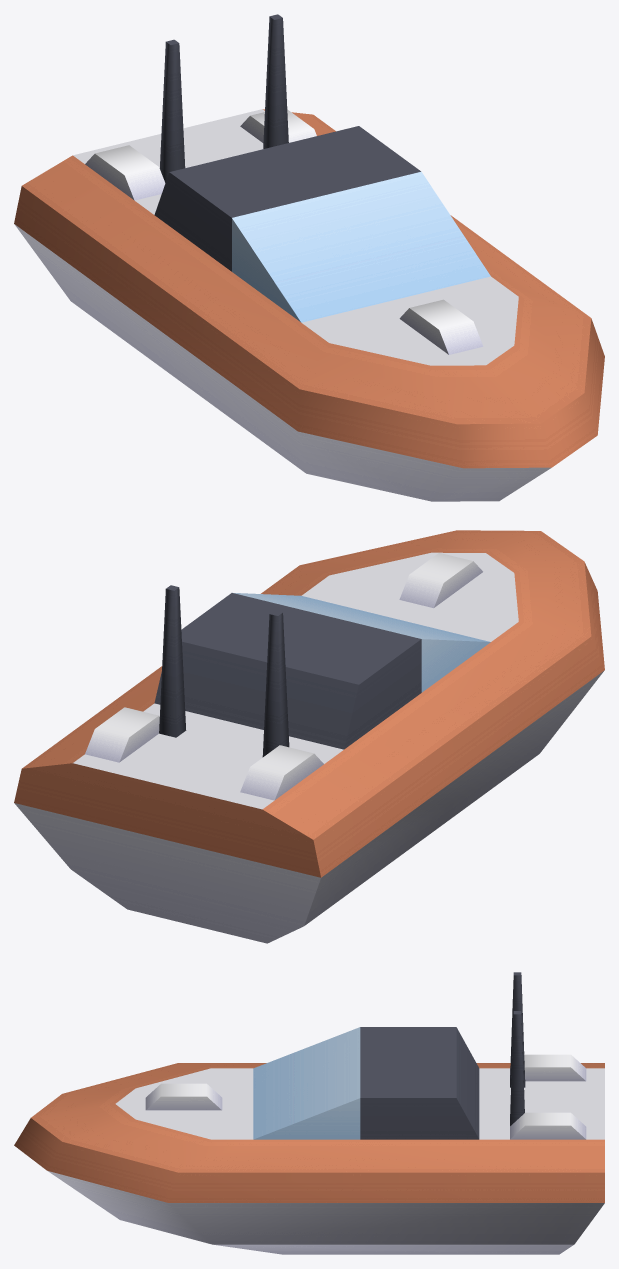
Rendered from boat_speed_i.glb.
3 views of the same model, one above another, from view 1: azimuth 30°, elevation 25°; view 2: azimuth 150°, elevation 25°; view 3: azimuth 270°, elevation 25° (orthographic). The views are drawn at different scales.
Visible parts, largest first — view 1: boat-speed-i; view 2: boat-speed-i; view 3: boat-speed-i.
Boxes of the visible parts, x1=… form: boat-speed-i: x1=14, y1=14, x2=604, y2=501; boat-speed-i: x1=14, y1=530, x2=604, y2=943; boat-speed-i: x1=14, y1=972, x2=604, y2=1254.
Size of the model in its own units: 1.78 by 1.7 by 3.87.
Materials: 1 (1 with a texture image).
